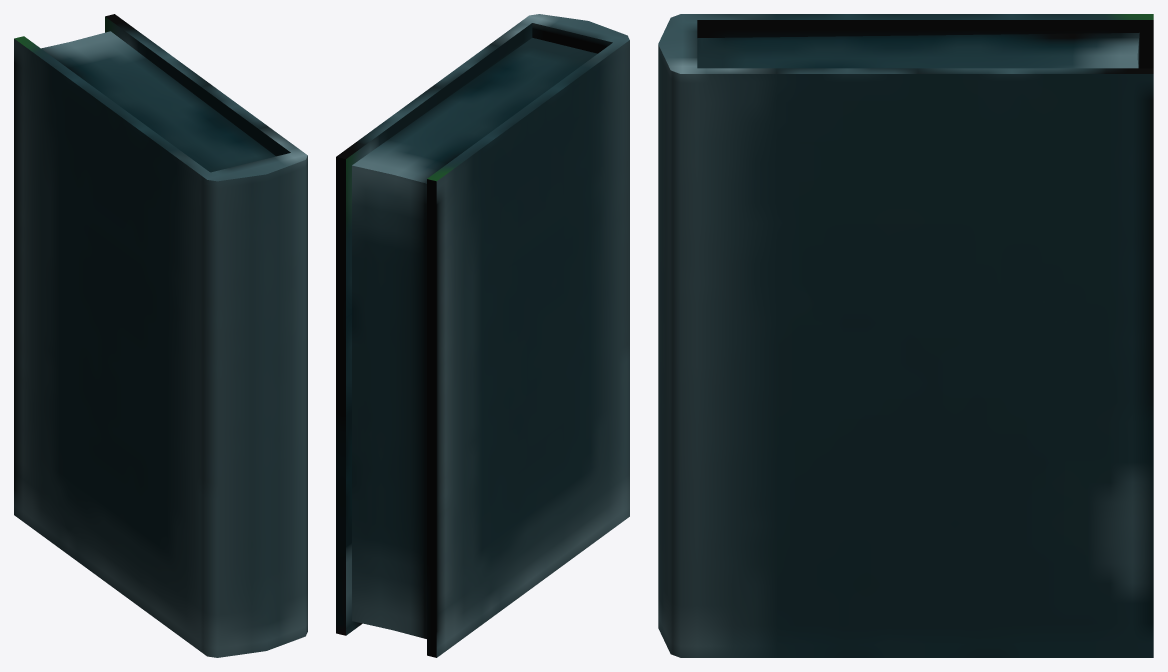
Rendered from RE_PropBook00.FBX.
3 views of the same model, side by side, from view 1: azimuth 30°, elevation 25°; view 2: azimuth 150°, elevation 25°; view 3: azimuth 270°, elevation 25° (orthographic). The views are drawn at different scales.
Visible parts, largest first — view 1: RE_PropBook00; view 2: RE_PropBook00; view 3: RE_PropBook00.
Boxes of the visible parts, x1,y1,x2,y2 form: RE_PropBook00: (14,14,307,657); RE_PropBook00: (336,14,629,657); RE_PropBook00: (658,14,1153,657).
Size of the model in its own units: 2.81 by 12.71 by 9.78.
1 material, 1 textured.
